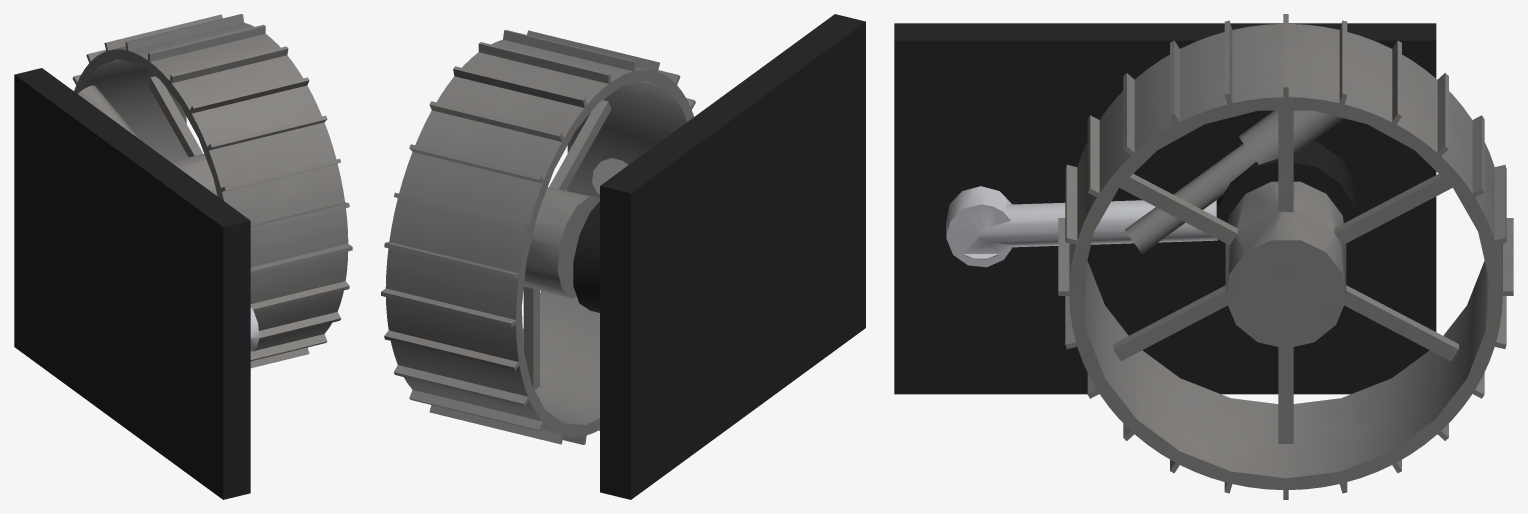
The model's file is rover04_wheel_s_susp_up.glb.
3 views of the same model, side by side, from view 1: azimuth 30°, elevation 25°; view 2: azimuth 150°, elevation 25°; view 3: azimuth 270°, elevation 25° (orthographic). The views are drawn at different scales.
Visible parts, largest first — view 1: mount_plate, wheel, damper; view 2: mount_plate, wheel, hub_motor, damper; view 3: mount_plate, wheel, swing_arm, damper, hub_motor.
Part boxes in pixels (left/top/right/bottom): mount_plate: left=14, top=68, right=250, bottom=499; wheel: left=72, top=14, right=352, bottom=368; damper: left=78, top=85, right=139, bottom=139; mount_plate: left=600, top=14, right=865, bottom=499; wheel: left=381, top=30, right=695, bottom=444; hub_motor: left=573, top=201, right=599, bottom=312; damper: left=592, top=158, right=628, bottom=194; mount_plate: left=894, top=23, right=1436, bottom=394; wheel: left=1058, top=14, right=1513, bottom=499; swing_arm: left=946, top=186, right=1217, bottom=267; damper: left=1125, top=110, right=1343, bottom=253; hub_motor: left=1216, top=141, right=1355, bottom=253.
Bounding box in the file's own units: 0.266 × 0.42 × 0.5714.
3 materials, 2 textured.
